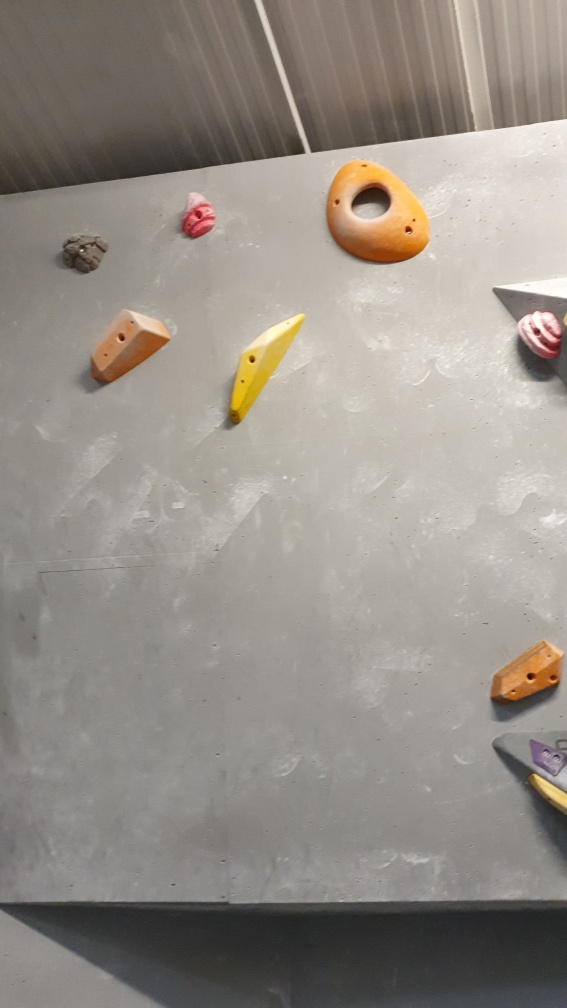Jug: (513, 308, 566, 365), (58, 229, 112, 273), (175, 192, 220, 237)
Pinch: (228, 312, 308, 429), (87, 304, 172, 387), (487, 638, 566, 708)
Pocket: (323, 157, 434, 263)
